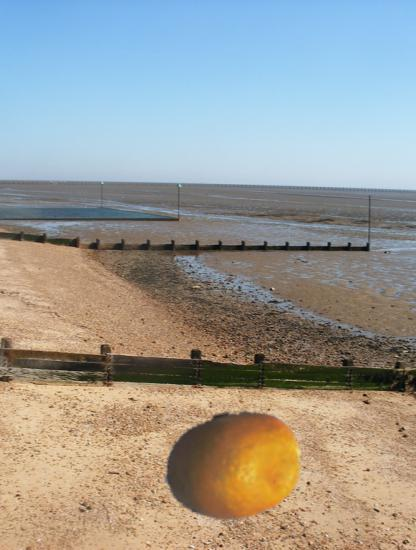Kumquats: (163, 395, 303, 535)
